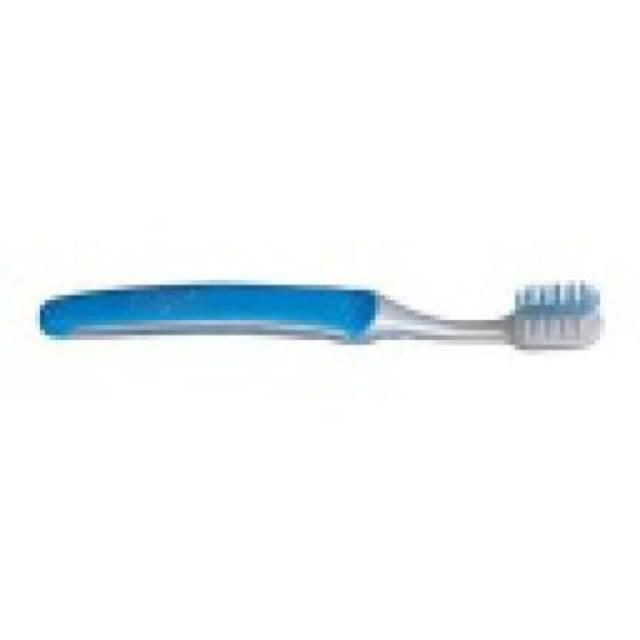toothbrush: (36, 205, 618, 437)
